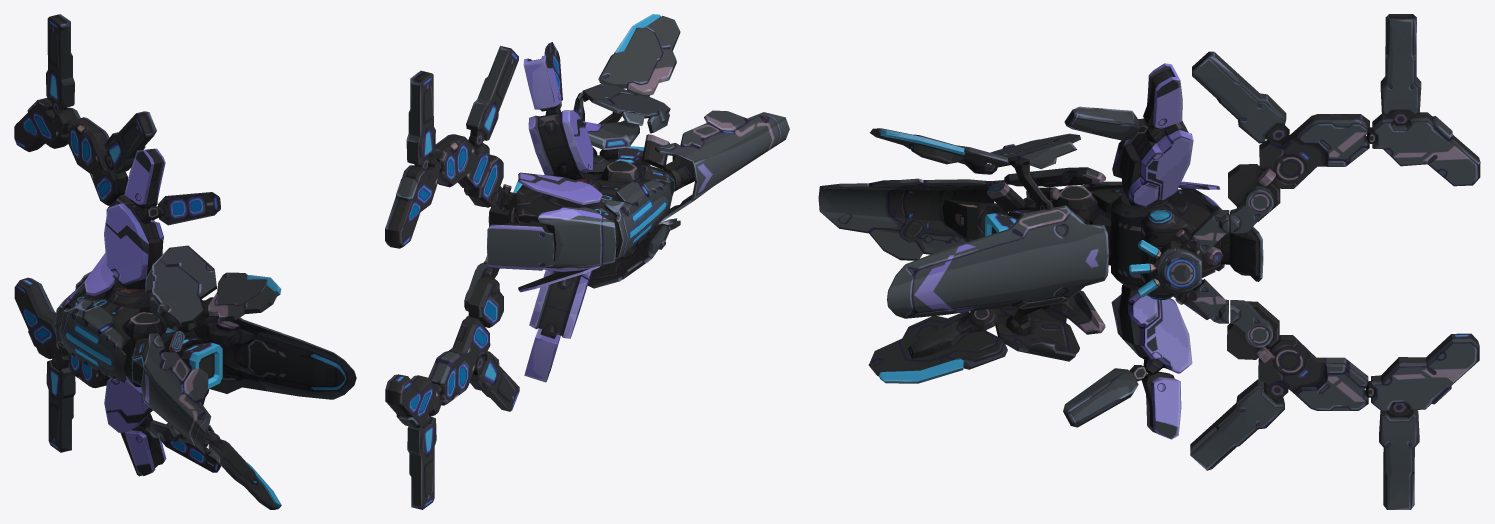
File: Npc_RO_020.fbx
3 views of the same model, side by side, from view 1: azimuth 30°, elevation 25°; view 2: azimuth 150°, elevation 25°; view 3: azimuth 270°, elevation 25° (orthographic). The views are drawn at different scales.
Visible parts, largest first — view 1: RO_020; view 2: RO_020; view 3: RO_020.
Part boxes in pixels (<box>): RO_020: <box>14,14,356,509</box>; RO_020: <box>385,14,789,509</box>; RO_020: <box>818,14,1480,509</box>.
Size of the model in its own units: 0.8651 by 1.92 by 2.35.
